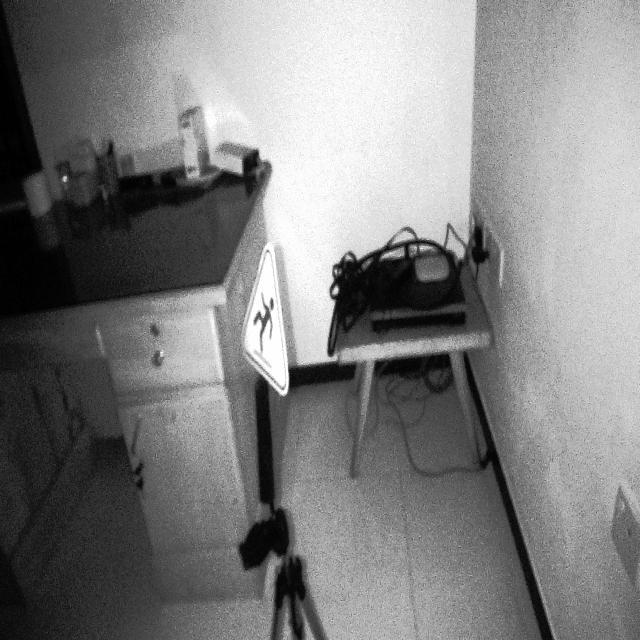Sign: (239, 241, 291, 398)
